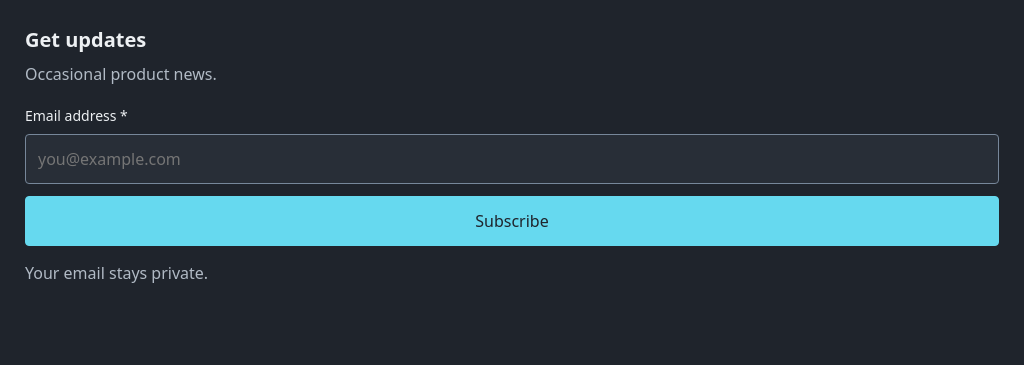
Test: NewsletterSignup › submits a trimmed email, announces success, and resets the field
Expected: the text "Occasional product news." is shown, x1=25 y1=63 x2=217 y2=85
Expected: the text "Your email stays private." is shown, x1=25 y1=262 x2=208 y2=284
Type "  reader@example.com  " into the field labelled "Email address".
click(512, 159); type("  reader@example.com  ")  # box x1=25 y1=134 x2=999 y2=184
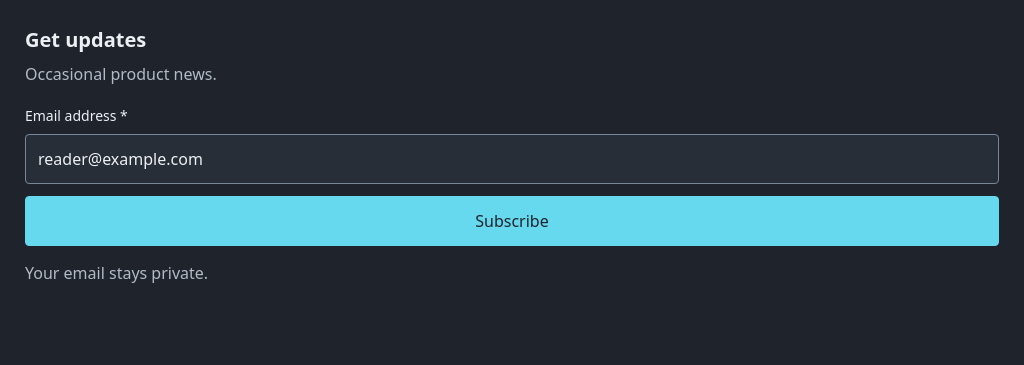
Submit the form named "Sign up for Get updates", box x1=25 y1=105 x2=999 y2=284
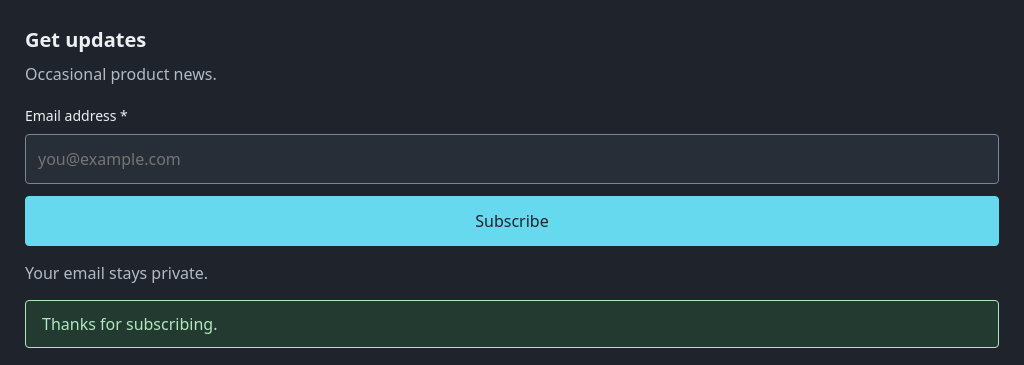
Expected: the message reads "Thanks for subscribing.", x1=42 y1=313 x2=217 y2=335
Expected: the field labelled "Email address" is empty, x1=25 y1=134 x2=999 y2=184
